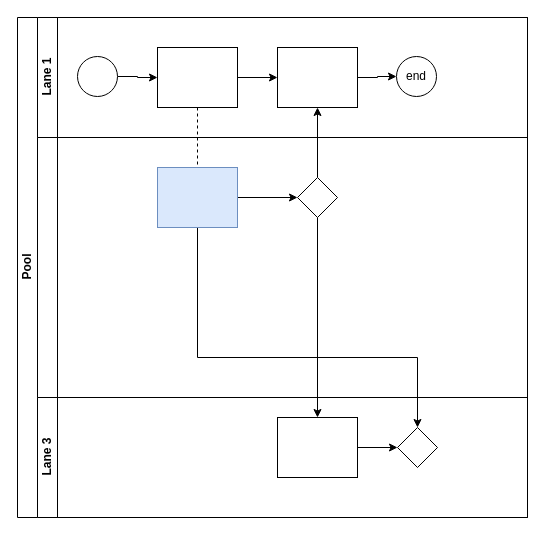
Some shapes in this 545 by 535 pixel diagram are drawn without their labels. Each missing label, with the box of its shape:
Lane 2: (36, 136, 528, 398)
start: (76, 56, 118, 96)
